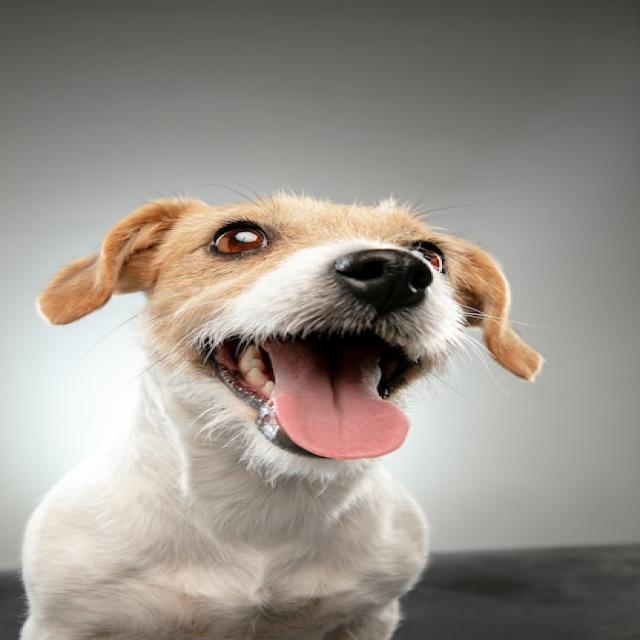Dog: (0, 197, 542, 640)
